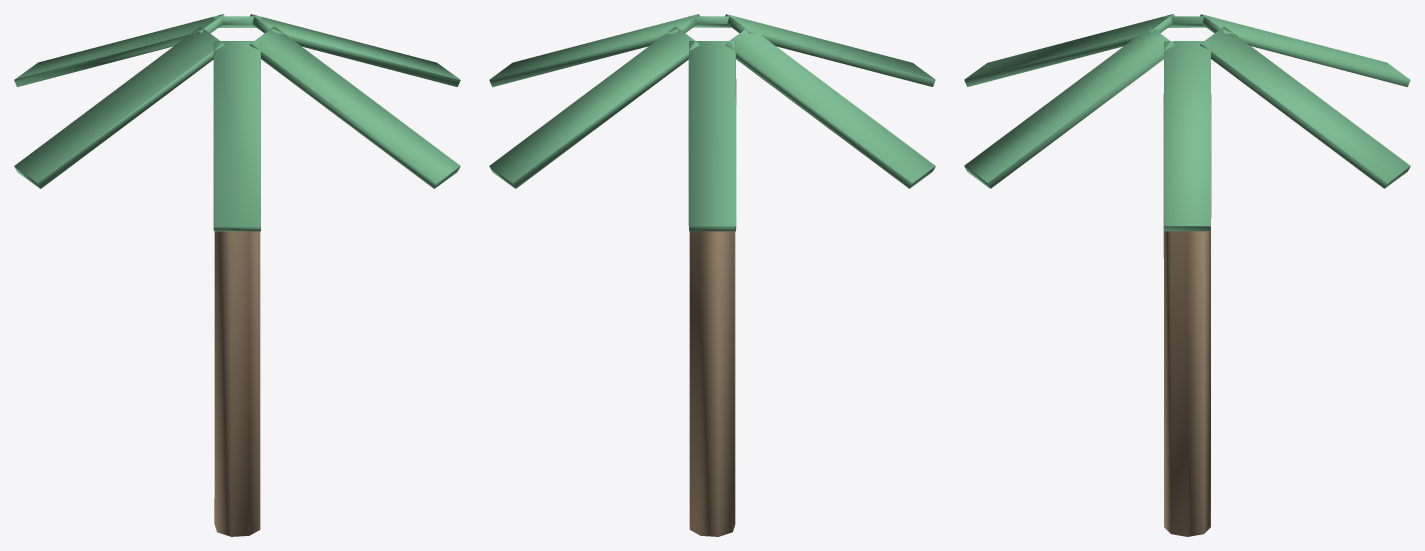
File: SM_Warmerdamm_Palm_LOD2.fbx
The picture shows the model from 3 angles, left to right: view 1: azimuth 30°, elevation 25°; view 2: azimuth 150°, elevation 25°; view 3: azimuth 270°, elevation 25°; orthographic projection.
Visible parts, largest first — view 1: SM_Warmerdamm_Palm_LOD2; view 2: SM_Warmerdamm_Palm_LOD2; view 3: SM_Warmerdamm_Palm_LOD2.
Part boxes in pixels (x1,y1,x2,y2): SM_Warmerdamm_Palm_LOD2: (14, 14, 460, 536); SM_Warmerdamm_Palm_LOD2: (489, 14, 935, 536); SM_Warmerdamm_Palm_LOD2: (964, 14, 1410, 536).
Bounding box in the file's own units: 3.26 × 3.67 × 2.98.
